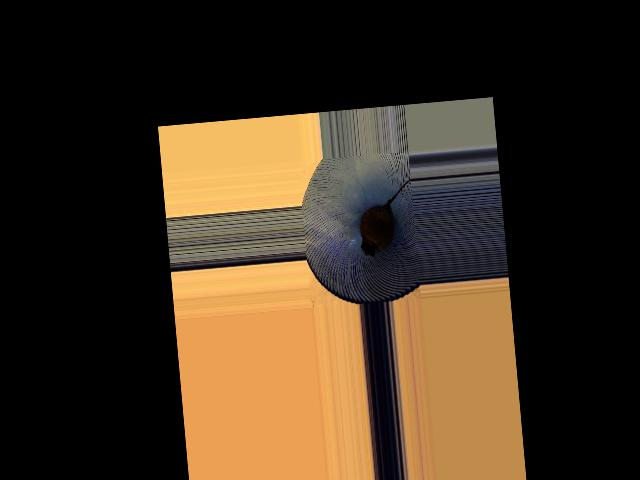beet: (356, 179, 418, 257)
